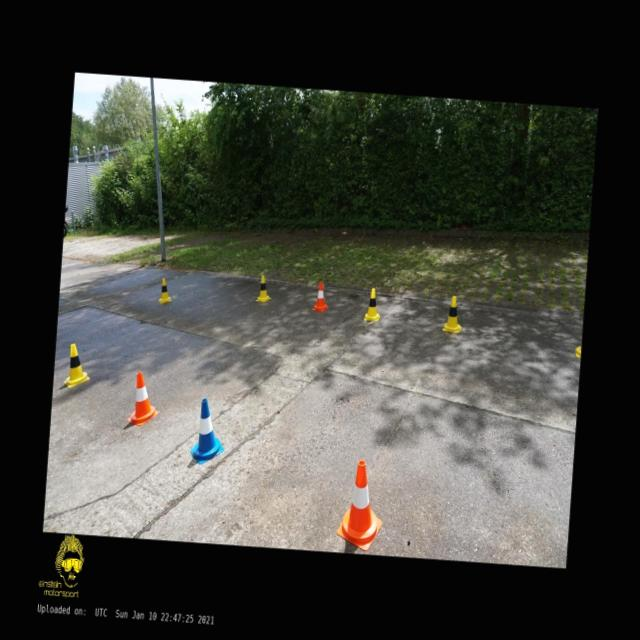blue_cone: (188, 397, 228, 466)
orange_cone: (336, 458, 386, 552), (125, 370, 162, 428), (312, 280, 329, 311)
yellow_cone: (62, 342, 92, 388), (442, 295, 464, 333), (362, 287, 382, 321), (254, 274, 272, 302), (158, 278, 172, 304)
